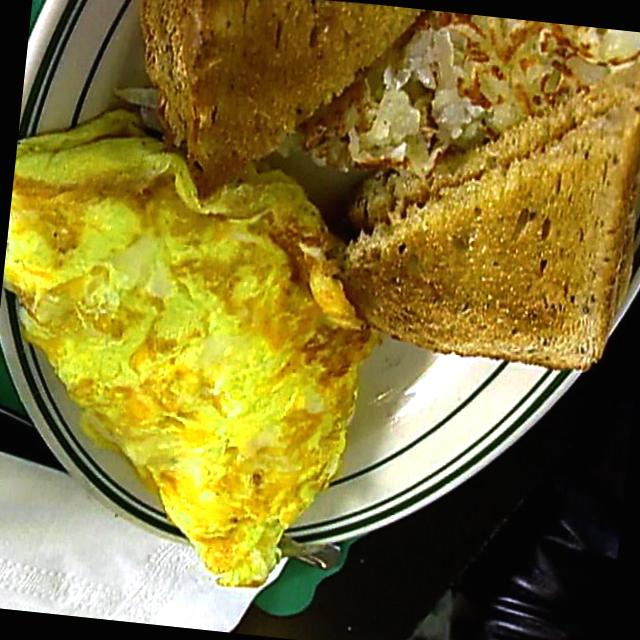Omelet: (0, 135, 389, 626)
